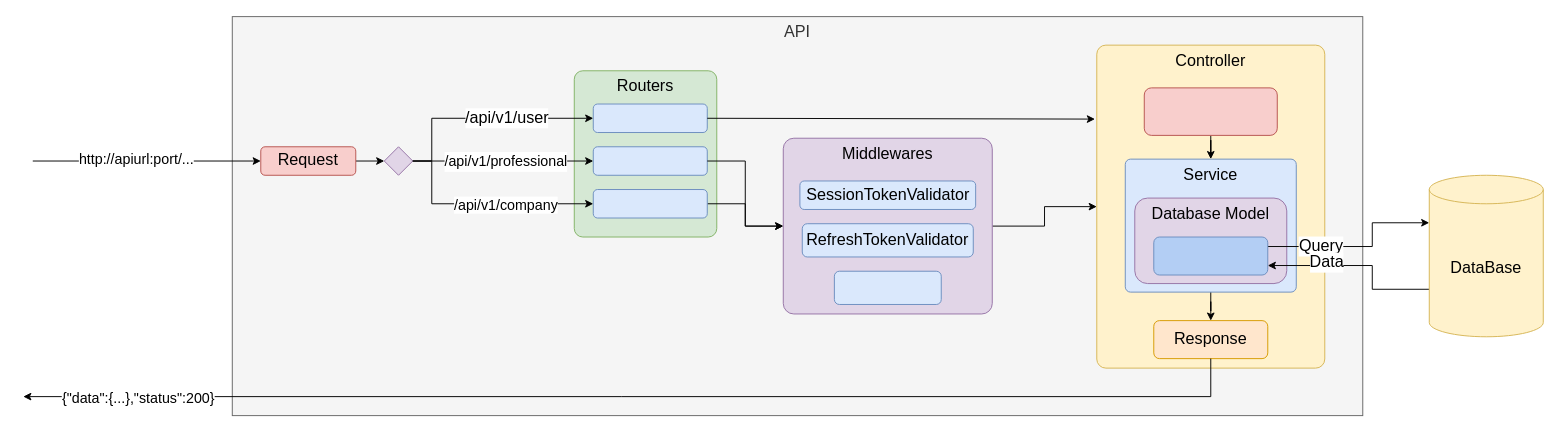
This 1560x432 diagram has some shape labels left out. The shapes that lost their labels are listed below. From the top down, each one's centre as x and y in pixels, then its label:
(649,118): User
(1210,111): Request validator
(649,160): Professional
(649,203): Company
(1210,255): Data Fetch
(887,287): RoleValidator
